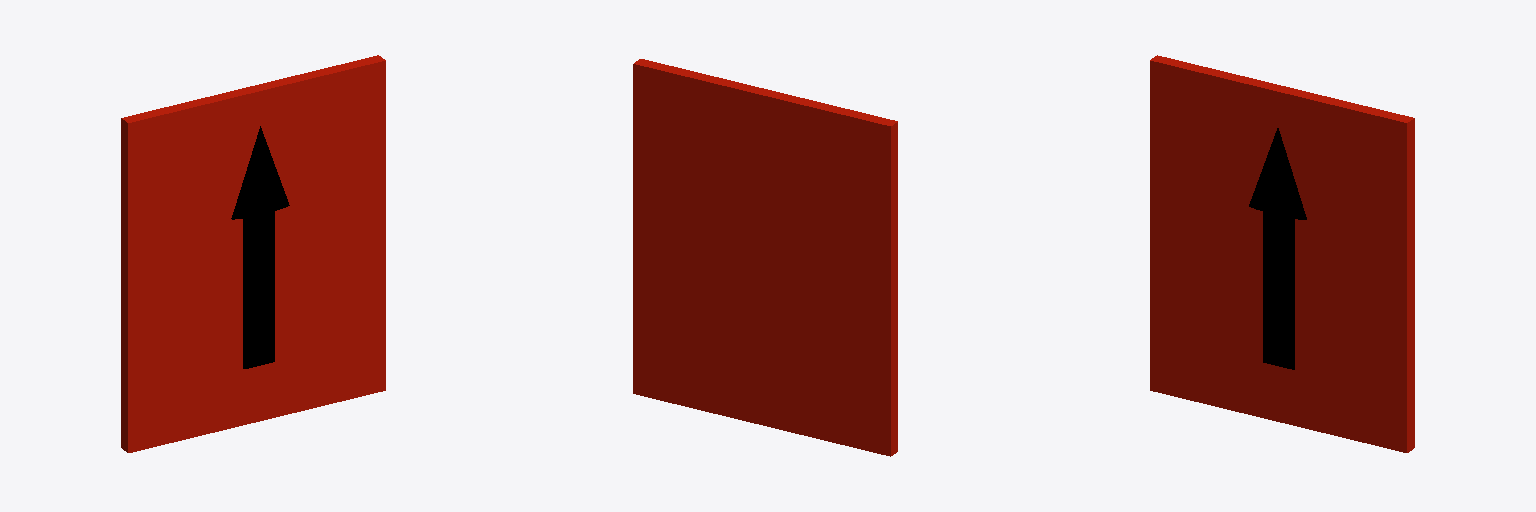
Rendered from arrowbutton.obj.
The picture shows the model from 3 angles: view 1: azimuth 30°, elevation 25°; view 2: azimuth 150°, elevation 25°; view 3: azimuth 330°, elevation 25°; orthographic projection.
Visible parts, largest first — view 1: Cube_Cube.001; view 2: Cube_Cube.001; view 3: Cube_Cube.001.
Boxes of the visible parts, <box> form: Cube_Cube.001: <box>121,55,385,452</box>; Cube_Cube.001: <box>633,59,897,456</box>; Cube_Cube.001: <box>1150,55,1414,452</box>.
Bounding box in the file's own units: 1.6 × 1.96 × 0.127.